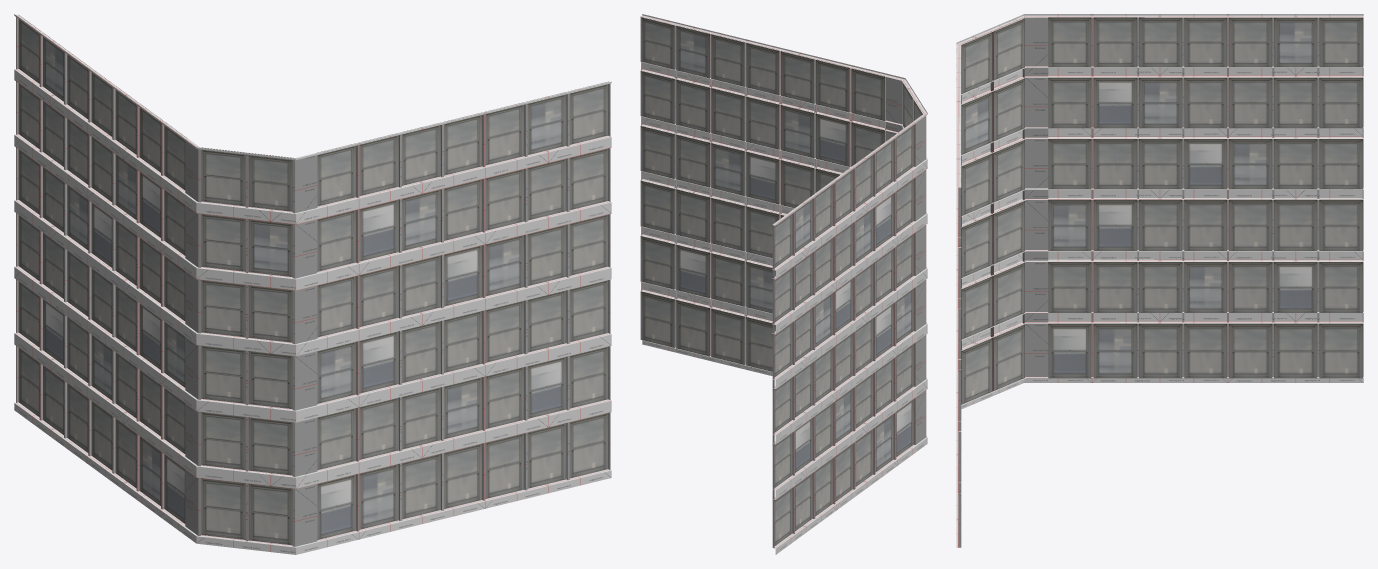
Rendered from M_06_3x_a_semi.FBX.
3 renders of one model, left to right at view 1: azimuth 30°, elevation 25°; view 2: azimuth 150°, elevation 25°; view 3: azimuth 270°, elevation 25°, orthographic. The views are drawn at different scales.
Visible parts, largest first — view 1: B_05_3x_a, Object001; view 2: B_05_3x_a, Object001; view 3: B_05_3x_a, Object001.
Part boxes in pixels (x1,y1,x2,y2): B_05_3x_a: (14,14,611,554); Object001: (196,147,296,554); B_05_3x_a: (640,14,927,554); Object001: (901,79,927,437); B_05_3x_a: (956,14,1363,547); Object001: (956,14,1027,409).
Bounding box in the file's own units: 60 × 60 × 59.99.
